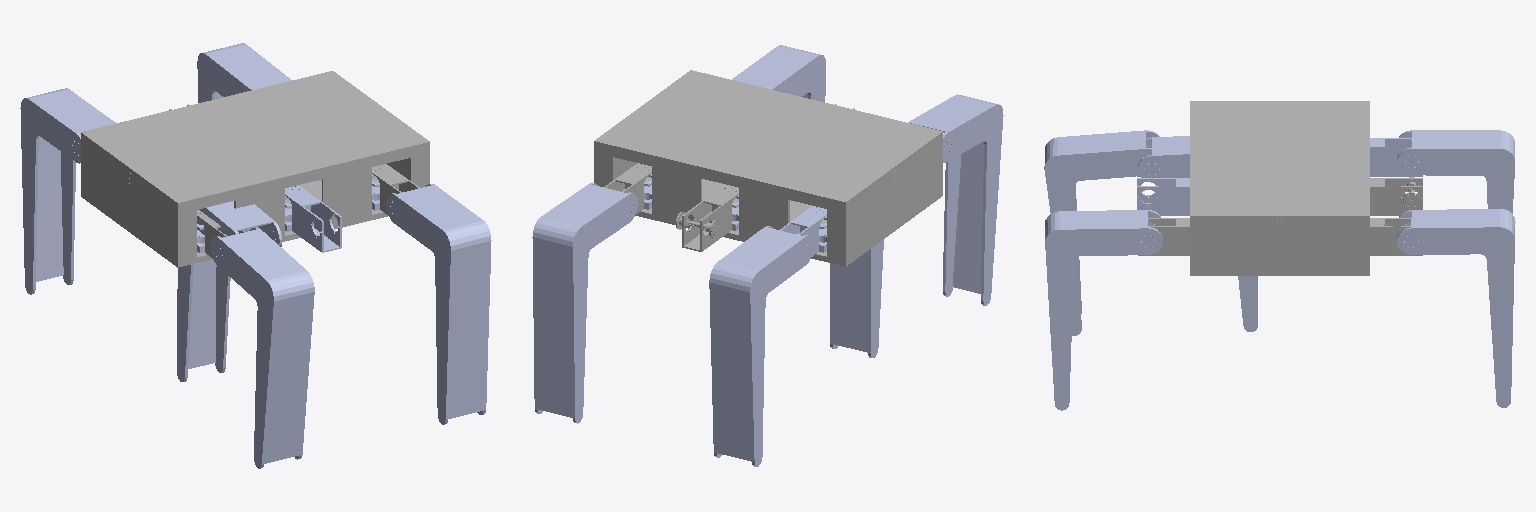
robot.urdf — 6_Legs_fixed:
<?xml version="1.0" encoding="utf-8"?>
<!-- This URDF was automatically created by SolidWorks to URDF Exporter! Originally created by Stephen Brawner ([email redacted]) 
     Commit Version: 1.6.0-4-g7f85cfe  Build Version: 1.6.7995.38578
     For more information, please see http://wiki.ros.org/sw_urdf_exporter -->
<robot
  name="6_Legs_fixed">
  <link
    name="base_link">
    <inertial>
      <origin
        xyz="-2.74585246806155E-16 4.44089209850063E-16 0.128881106851671"
        rpy="0 0 0" />
      <mass
        value="22.033335501173" />
      <inertia
        ixx="0.8417129763989"
        ixy="-1.83539305948728E-15"
        ixz="1.04328143130752E-15"
        iyy="1.85632822551968"
        iyz="-5.16947595841089E-16"
        izz="2.61458422893647" />
    </inertial>
    <visual>
      <origin
        xyz="0 0 0"
        rpy="0 0 0" />
      <geometry>
        <mesh
          filename="package://6_Legs_fixed/meshes/base_link.STL" />
      </geometry>
      <material
        name="">
        <color
          rgba="0.752941176470588 0.752941176470588 0.752941176470588 1" />
      </material>
    </visual>
    <collision>
      <origin
        xyz="0 0 0"
        rpy="0 0 0" />
      <geometry>
        <mesh
          filename="package://6_Legs_fixed/meshes/base_link.STL" />
      </geometry>
    </collision>
  </link>
  <link
    name="Link_1">
    <inertial>
      <origin
        xyz="-2.77555756156289E-16 0.0193856043120518 0.00799128397049295"
        rpy="0 0 0" />
      <mass
        value="0.294565123385619" />
      <inertia
        ixx="0.00105494307880137"
        ixy="-1.38635230288521E-17"
        ixz="8.15583132799492E-18"
        iyy="0.000429285347286343"
        iyz="2.12375671938406E-05"
        izz="0.000930841228803921" />
    </inertial>
    <visual>
      <origin
        xyz="0 0 0"
        rpy="0 0 0" />
      <geometry>
        <mesh
          filename="package://6_Legs_fixed/meshes/Link_1.STL" />
      </geometry>
      <material
        name="">
        <color
          rgba="0.792156862745098 0.819607843137255 0.933333333333333 1" />
      </material>
    </visual>
    <collision>
      <origin
        xyz="0 0 0"
        rpy="0 0 0" />
      <geometry>
        <mesh
          filename="package://6_Legs_fixed/meshes/Link_1.STL" />
      </geometry>
    </collision>
  </link>
  <joint
    name="No_Joint"
    type="fixed">
    <origin
      xyz="0.317499999999999 0.144099999999999 0.0199999999999999"
      rpy="0 0 0" />
    <parent
      link="base_link" />
    <child
      link="Link_1" />
    <axis
      xyz="0 0 0" />
  </joint>
  <link
    name="Link_2_1">
    <inertial>
      <origin
        xyz="0.00440457701081298 0.133234737745357 0.0147340785494887"
        rpy="0 0 0" />
      <mass
        value="0.35463848639693" />
      <inertia
        ixx="0.0022431506995859"
        ixy="-1.43733427396489E-05"
        ixz="4.18803786744805E-06"
        iyy="0.000838300018387207"
        iyz="0.000409382102865286"
        izz="0.00195814822262964" />
    </inertial>
    <visual>
      <origin
        xyz="0 0 0"
        rpy="0 0 0" />
      <geometry>
        <mesh
          filename="package://6_Legs_fixed/meshes/Link_2_1.STL" />
      </geometry>
      <material
        name="">
        <color
          rgba="0.752941176470588 0.752941176470588 0.752941176470588 1" />
      </material>
    </visual>
    <collision>
      <origin
        xyz="0 0 0"
        rpy="0 0 0" />
      <geometry>
        <mesh
          filename="package://6_Legs_fixed/meshes/Link_2_1.STL" />
      </geometry>
    </collision>
  </link>
  <joint
    name="Joint_1"
    type="fixed">
    <origin
      xyz="-0.0030746 0.081274 0.03275"
      rpy="0 0 0" />
    <parent
      link="Link_1" />
    <child
      link="Link_2_1" />
    <axis
      xyz="0 0 0" />
  </joint>
  <link
    name="Link_2">
    <inertial>
      <origin
        xyz="0.161310305567988 -0.239853582294744 -0.00247675891911525"
        rpy="0 0 0" />
      <mass
        value="2.21151363725631" />
      <inertia
        ixx="0.0341297219781968"
        ixy="0.0255123389151366"
        ixz="0.000272334576142029"
        iyy="0.0956933397810624"
        iyz="-0.00018045052821444"
        izz="0.112972719824399" />
    </inertial>
    <visual>
      <origin
        xyz="0 0 0"
        rpy="0 0 0" />
      <geometry>
        <mesh
          filename="package://6_Legs_fixed/meshes/Link_2.STL" />
      </geometry>
      <material
        name="">
        <color
          rgba="0.792156862745098 0.819607843137255 0.933333333333333 1" />
      </material>
    </visual>
    <collision>
      <origin
        xyz="0 0 0"
        rpy="0 0 0" />
      <geometry>
        <mesh
          filename="package://6_Legs_fixed/meshes/Link_2.STL" />
      </geometry>
    </collision>
  </link>
  <joint
    name="Joint_2"
    type="fixed">
    <origin
      xyz="0.0053286 0.22355 0.035553"
      rpy="-1.5708 1.5567 1.5708" />
    <parent
      link="Link_2_1" />
    <child
      link="Link_2" />
    <axis
      xyz="0 0 0" />
  </joint>
  <link
    name="Link_1_2">
    <inertial>
      <origin
        xyz="7.78065189729364E-17 0.0193856043120519 0.00799128397049298"
        rpy="0 0 0" />
      <mass
        value="0.294565123385619" />
      <inertia
        ixx="0.00105494307880137"
        ixy="-3.59682279865432E-18"
        ixz="-1.75639343909086E-18"
        iyy="0.000429285347286344"
        iyz="2.12375671938395E-05"
        izz="0.000930841228803922" />
    </inertial>
    <visual>
      <origin
        xyz="0 0 0"
        rpy="0 0 0" />
      <geometry>
        <mesh
          filename="package://6_Legs_fixed/meshes/Link_1_2.STL" />
      </geometry>
      <material
        name="">
        <color
          rgba="0.792156862745098 0.819607843137255 0.933333333333333 1" />
      </material>
    </visual>
    <collision>
      <origin
        xyz="0 0 0"
        rpy="0 0 0" />
      <geometry>
        <mesh
          filename="package://6_Legs_fixed/meshes/Link_1_2.STL" />
      </geometry>
    </collision>
  </link>
  <joint
    name="Fixed_Joint_2"
    type="fixed">
    <origin
      xyz="0 0.1441 0.02"
      rpy="0 0 0" />
    <parent
      link="base_link" />
    <child
      link="Link_1_2" />
    <axis
      xyz="0 0 0" />
  </joint>
  <link
    name="Link_2_1_2">
    <inertial>
      <origin
        xyz="-0.00119443281923461 0.126109214219085 0.0149275647877688"
        rpy="0 0 0" />
      <mass
        value="0.354638486396931" />
      <inertia
        ixx="0.0022432977410922"
        ixy="8.13929796118913E-11"
        ixz="-2.77070816509354E-11"
        iyy="0.000838152976880902"
        iyz="0.00040940352442008"
        izz="0.00195814822262964" />
    </inertial>
    <visual>
      <origin
        xyz="0 0 0"
        rpy="0 0 0" />
      <geometry>
        <mesh
          filename="package://6_Legs_fixed/meshes/Link_2_1_2.STL" />
      </geometry>
      <material
        name="">
        <color
          rgba="0.752941176470588 0.752941176470588 0.752941176470588 1" />
      </material>
    </visual>
    <collision>
      <origin
        xyz="0 0 0"
        rpy="0 0 0" />
      <geometry>
        <mesh
          filename="package://6_Legs_fixed/meshes/Link_2_1_2.STL" />
      </geometry>
    </collision>
  </link>
  <joint
    name="Joint_1_2"
    type="fixed">
    <origin
      xyz="0.0011944 0.088406 0.032957"
      rpy="0 0 0" />
    <parent
      link="Link_1_2" />
    <child
      link="Link_2_1_2" />
    <axis
      xyz="0 0 0" />
  </joint>
  <link
    name="Link_2_2">
    <inertial>
      <origin
        xyz="0.00232819705566778 -0.00385619268525492 7.45753830105682E-09"
        rpy="0 0 0" />
      <mass
        value="0.0693204915543849" />
      <inertia
        ixx="3.56780731089416E-05"
        ixy="1.43315615772311E-08"
        ixz="-1.40975412123694E-08"
        iyy="3.56629937884206E-05"
        iyz="-8.50756239341584E-09"
        izz="1.49181504825407E-05" />
    </inertial>
    <visual>
      <origin
        xyz="0 0 0"
        rpy="0 0 0" />
      <geometry>
        <mesh
          filename="package://6_Legs_fixed/meshes/Link_2_2.STL" />
      </geometry>
      <material
        name="">
        <color
          rgba="0.752941176470588 0.752941176470588 0.752941176470588 1" />
      </material>
    </visual>
    <collision>
      <origin
        xyz="0 0 0"
        rpy="0 0 0" />
      <geometry>
        <mesh
          filename="package://6_Legs_fixed/meshes/Link_2_2.STL" />
      </geometry>
    </collision>
  </link>
  <joint
    name="Joint_2_2"
    type="fixed">
    <origin
      xyz="-0.0011944 0.2088 0.035747"
      rpy="-1.5707 1.5708 1.5709" />
    <parent
      link="Link_2_1_2" />
    <child
      link="Link_2_2" />
    <axis
      xyz="0 0 0" />
  </joint>
  <link
    name="Link_1_3">
    <inertial>
      <origin
        xyz="-0.00443938069490774 -0.0655027911560029 -0.0251587160295106"
        rpy="0 0 0" />
      <mass
        value="0.294565123385619" />
      <inertia
        ixx="0.00105494307880137"
        ixy="-2.85091557835376E-18"
        ixz="-1.95472178815993E-18"
        iyy="0.000429285347286343"
        iyz="2.12375671938393E-05"
        izz="0.000930841228803921" />
    </inertial>
    <visual>
      <origin
        xyz="0 0 0"
        rpy="0 0 0" />
      <geometry>
        <mesh
          filename="package://6_Legs_fixed/meshes/Link_1_3.STL" />
      </geometry>
      <material
        name="">
        <color
          rgba="0.792156862745098 0.819607843137255 0.933333333333333 1" />
      </material>
    </visual>
    <collision>
      <origin
        xyz="0 0 0"
        rpy="0 0 0" />
      <geometry>
        <mesh
          filename="package://6_Legs_fixed/meshes/Link_1_3.STL" />
      </geometry>
    </collision>
  </link>
  <joint
    name="Fixed_Joint_3"
    type="fixed">
    <origin
      xyz="-0.313060619305092 0.228988395468048 0.0531500000000036"
      rpy="0 0 0" />
    <parent
      link="base_link" />
    <child
      link="Link_1_3" />
    <axis
      xyz="0 0 0" />
  </joint>
  <link
    name="Link_2_1_3">
    <inertial>
      <origin
        xyz="0.129636104863769 0.0147340785494821 -0.00444014039667867"
        rpy="0 0 0" />
      <mass
        value="0.354638486396931" />
      <inertia
        ixx="0.000838152976880922"
        ixy="0.000409403524420104"
        ixz="8.13925089437219E-11"
        iyy="0.00195814822262963"
        iyz="-2.77069450750762E-11"
        izz="0.00224329774109221" />
    </inertial>
    <visual>
      <origin
        xyz="0 0 0"
        rpy="0 0 0" />
      <geometry>
        <mesh
          filename="package://6_Legs_fixed/meshes/Link_2_1_3.STL" />
      </geometry>
      <material
        name="">
        <color
          rgba="0.792156862745098 0.819607843137255 0.933333333333333 1" />
      </material>
    </visual>
    <collision>
      <origin
        xyz="0 0 0"
        rpy="0 0 0" />
      <geometry>
        <mesh
          filename="package://6_Legs_fixed/meshes/Link_2_1_3.STL" />
      </geometry>
    </collision>
  </link>
  <joint
    name="Joint_1_3"
    type="fixed">
    <origin
      xyz="0 0 0"
      rpy="1.5708 0 1.5728" />
    <parent
      link="Link_1_3" />
    <child
      link="Link_2_1_3" />
    <axis
      xyz="0 0 0" />
  </joint>
  <link
    name="Link_2_3">
    <inertial>
      <origin
        xyz="0.162625008862092 -0.24669558344667 4.49640324973188E-15"
        rpy="0 0 0" />
      <mass
        value="2.2115136372563" />
      <inertia
        ixx="0.0338513825334559"
        ixy="0.0251742141271308"
        ixz="1.2732641614774E-16"
        iyy="0.0959697941105454"
        iyz="-2.74845250725075E-17"
        izz="0.112974604939655" />
    </inertial>
    <visual>
      <origin
        xyz="0 0 0"
        rpy="0 0 0" />
      <geometry>
        <mesh
          filename="package://6_Legs_fixed/meshes/Link_2_3.STL" />
      </geometry>
      <material
        name="">
        <color
          rgba="0.792156862745098 0.819607843137255 0.933333333333333 1" />
      </material>
    </visual>
    <collision>
      <origin
        xyz="0 0 0"
        rpy="0 0 0" />
      <geometry>
        <mesh
          filename="package://6_Legs_fixed/meshes/Link_2_3.STL" />
      </geometry>
    </collision>
  </link>
  <joint
    name="Joint_2_3"
    type="fixed">
    <origin
      xyz="0.2123 0.035495 -0.0044401"
      rpy="-3.1416 0 -1.5752" />
    <parent
      link="Link_2_1_3" />
    <child
      link="Link_2_3" />
    <axis
      xyz="0 0 0" />
  </joint>
  <link
    name="Link_1_4">
    <inertial>
      <origin
        xyz="-3.33066907387547E-16 -0.019385604312052 0.00799128397049301"
        rpy="0 0 0" />
      <mass
        value="0.29456512338562" />
      <inertia
        ixx="0.00105494307880138"
        ixy="-1.13716178449994E-17"
        ixz="1.29412240558589E-18"
        iyy="0.000429285347286344"
        iyz="-2.12375671938404E-05"
        izz="0.000930841228803925" />
    </inertial>
    <visual>
      <origin
        xyz="0 0 0"
        rpy="0 0 0" />
      <geometry>
        <mesh
          filename="package://6_Legs_fixed/meshes/Link_1_4.STL" />
      </geometry>
      <material
        name="">
        <color
          rgba="0.792156862745098 0.819607843137255 0.933333333333333 1" />
      </material>
    </visual>
    <collision>
      <origin
        xyz="0 0 0"
        rpy="0 0 0" />
      <geometry>
        <mesh
          filename="package://6_Legs_fixed/meshes/Link_1_4.STL" />
      </geometry>
    </collision>
  </link>
  <joint
    name="Fixed_Joint_4"
    type="fixed">
    <origin
      xyz="0.317500000000001 -0.144099999999999 0.02"
      rpy="0 0 0" />
    <parent
      link="base_link" />
    <child
      link="Link_1_4" />
    <axis
      xyz="0 0 0" />
  </joint>
  <link
    name="Link_2_1_4">
    <inertial>
      <origin
        xyz="0.125562950483786 0.001689160065936 0.014734078549491"
        rpy="0 0 0" />
      <mass
        value="0.35463848639693" />
      <inertia
        ixx="0.000838310778854466"
        ixy="-1.48899199282642E-05"
        ixz="0.00040938053511016"
        iyy="0.00224313993911864"
        iyz="4.33858047185253E-06"
        izz="0.00195814822262963" />
    </inertial>
    <visual>
      <origin
        xyz="0 0 0"
        rpy="0 0 0" />
      <geometry>
        <mesh
          filename="package://6_Legs_fixed/meshes/Link_2_1_4.STL" />
      </geometry>
      <material
        name="">
        <color
          rgba="0.752941176470588 0.752941176470588 0.752941176470588 1" />
      </material>
    </visual>
    <collision>
      <origin
        xyz="0 0 0"
        rpy="0 0 0" />
      <geometry>
        <mesh
          filename="package://6_Legs_fixed/meshes/Link_2_1_4.STL" />
      </geometry>
    </collision>
  </link>
  <joint
    name="Joint_1_4"
    type="continuous">
    <origin
      xyz="-0.00031135 -0.088945 0.03315"
      rpy="0 0 -1.5708" />
    <parent
      link="Link_1_4" />
    <child
      link="Link_2_1_4" />
    <axis
      xyz="0 0 -1" />
  </joint>
  <link
    name="Link_2_4">
    <inertial>
      <origin
        xyz="0.162625008862141 0.238963561713091 -0.00253231568323709"
        rpy="0 0 0" />
      <mass
        value="2.21151363725629" />
      <inertia
        ixx="0.0338513825334561"
        ixy="-0.0251728007382378"
        ixz="0.000266758151926227"
        iyy="0.0959717035036993"
        iyz="0.000180181085593333"
        izz="0.112972695546501" />
    </inertial>
    <visual>
      <origin
        xyz="0 0 0"
        rpy="0 0 0" />
      <geometry>
        <mesh
          filename="package://6_Legs_fixed/meshes/Link_2_4.STL" />
      </geometry>
      <material
        name="">
        <color
          rgba="0.792156862745098 0.819607843137255 0.933333333333333 1" />
      </material>
    </visual>
    <collision>
      <origin
        xyz="0 0 0"
        rpy="0 0 0" />
      <geometry>
        <mesh
          filename="package://6_Legs_fixed/meshes/Link_2_4.STL" />
      </geometry>
    </collision>
  </link>
  <joint
    name="Joint_2_4"
    type="fixed">
    <origin
      xyz="0.21595 0.0026471 0.035432"
      rpy="-1.5602 1.5587 -3.131" />
    <parent
      link="Link_2_1_4" />
    <child
      link="Link_2_4" />
    <axis
      xyz="0 0 0" />
  </joint>
  <link
    name="Link_1_5">
    <inertial>
      <origin
        xyz="-3.93318232140555E-17 -0.0193856043120521 0.00799128397049298"
        rpy="0 0 0" />
      <mass
        value="0.294565123385619" />
      <inertia
        ixx="0.00105494307880137"
        ixy="-8.56216411872192E-19"
        ixz="2.04207351117204E-18"
        iyy="0.000429285347286344"
        iyz="-2.12375671938402E-05"
        izz="0.000930841228803922" />
    </inertial>
    <visual>
      <origin
        xyz="0 0 0"
        rpy="0 0 0" />
      <geometry>
        <mesh
          filename="package://6_Legs_fixed/meshes/Link_1_5.STL" />
      </geometry>
      <material
        name="">
        <color
          rgba="0.792156862745098 0.819607843137255 0.933333333333333 1" />
      </material>
    </visual>
    <collision>
      <origin
        xyz="0 0 0"
        rpy="0 0 0" />
      <geometry>
        <mesh
          filename="package://6_Legs_fixed/meshes/Link_1_5.STL" />
      </geometry>
    </collision>
  </link>
  <joint
    name="Fixed_Joint_5"
    type="fixed">
    <origin
      xyz="0 -0.144099999999999 0.02"
      rpy="0 0 0" />
    <parent
      link="base_link" />
    <child
      link="Link_1_5" />
    <axis
      xyz="0 0 0" />
  </joint>
  <link
    name="Link_2_1_5">
    <inertial>
      <origin
        xyz="0.126045120861653 0.0147340785494941 0.00202323068990402"
        rpy="0 0 0" />
      <mass
        value="0.354638486396932" />
      <inertia
        ixx="0.000838152976880909"
        ixy="0.000409403524420088"
        ixz="8.13925102230601E-11"
        iyy="0.00195814822262964"
        iyz="-2.77069452828193E-11"
        izz="0.00224329774109221" />
    </inertial>
    <visual>
      <origin
        xyz="0 0 0"
        rpy="0 0 0" />
      <geometry>
        <mesh
          filename="package://6_Legs_fixed/meshes/Link_2_1_5.STL" />
      </geometry>
      <material
        name="">
        <color
          rgba="0.792156862745098 0.819607843137255 0.933333333333333 1" />
      </material>
    </visual>
    <collision>
      <origin
        xyz="0 0 0"
        rpy="0 0 0" />
      <geometry>
        <mesh
          filename="package://6_Legs_fixed/meshes/Link_2_1_5.STL" />
      </geometry>
    </collision>
  </link>
  <joint
    name="Joint_1_5"
    type="continuous">
    <origin
      xyz="0.0020232 -0.088471 0.03315"
      rpy="1.5708 0 -1.5708" />
    <parent
      link="Link_1_5" />
    <child
      link="Link_2_1_5" />
    <axis
      xyz="0 -1 0" />
  </joint>
  <link
    name="Link_2_5">
    <inertial>
      <origin
        xyz="0.153070378325338 0.252338289947187 -0.318404551408"
        rpy="0 0 0" />
      <mass
        value="2.21151363725631" />
      <inertia
        ixx="0.0350279836952742"
        ixy="-0.0265601829836423"
        ixz="4.41590441039777E-05"
        iyy="0.0947932537385775"
        iyz="3.31202719611275E-05"
        izz="0.112974544149805" />
    </inertial>
    <visual>
      <origin
        xyz="0 0 0"
        rpy="0 0 0" />
      <geometry>
        <mesh
          filename="package://6_Legs_fixed/meshes/Link_2_5.STL" />
      </geometry>
      <material
        name="">
        <color
          rgba="0.792156862745098 0.819607843137255 0.933333333333333 1" />
      </material>
    </visual>
    <collision>
      <origin
        xyz="0 0 0"
        rpy="0 0 0" />
      <geometry>
        <mesh
          filename="package://6_Legs_fixed/meshes/Link_2_5.STL" />
      </geometry>
    </collision>
  </link>
  <joint
    name="Joint_2_5"
    type="fixed">
    <origin
      xyz="0.20841 0.031615 0.31994"
      rpy="0.0019793 0.00010792 -1.6253" />
    <parent
      link="Link_2_1_5" />
    <child
      link="Link_2_5" />
    <axis
      xyz="0 0 0" />
  </joint>
  <link
    name="Link_1_6">
    <inertial>
      <origin
        xyz="-5.55111512312578E-17 -0.0193856043120519 0.00799128397049298"
        rpy="0 0 0" />
      <mass
        value="0.294565123385619" />
      <inertia
        ixx="0.00105494307880137"
        ixy="-1.42008686409587E-18"
        ixz="2.24120531308849E-18"
        iyy="0.000429285347286344"
        iyz="-2.12375671938401E-05"
        izz="0.000930841228803922" />
    </inertial>
    <visual>
      <origin
        xyz="0 0 0"
        rpy="0 0 0" />
      <geometry>
        <mesh
          filename="package://6_Legs_fixed/meshes/Link_1_6.STL" />
      </geometry>
      <material
        name="">
        <color
          rgba="0.792156862745098 0.819607843137255 0.933333333333333 1" />
      </material>
    </visual>
    <collision>
      <origin
        xyz="0 0 0"
        rpy="0 0 0" />
      <geometry>
        <mesh
          filename="package://6_Legs_fixed/meshes/Link_1_6.STL" />
      </geometry>
    </collision>
  </link>
  <joint
    name="Fixed_Joint_6"
    type="fixed">
    <origin
      xyz="-0.317499999999991 -0.144100000000011 0.02"
      rpy="0 0 0" />
    <parent
      link="base_link" />
    <child
      link="Link_1_6" />
    <axis
      xyz="0 0 0" />
  </joint>
  <link
    name="Link_2_1_6">
    <inertial>
      <origin
        xyz="0.130403839661595 -0.00469710591727718 0.0147340785494955"
        rpy="0 0 0" />
      <mass
        value="0.354638486396932" />
      <inertia
        ixx="0.00083815849782033"
        ixy="2.78526275964138E-06"
        ixz="0.000409402720135687"
        iyy="0.0022432922201528"
        iyz="-8.11512841643623E-07"
        izz="0.00195814822262964" />
    </inertial>
    <visual>
      <origin
        xyz="0 0 0"
        rpy="0 0 0" />
      <geometry>
        <mesh
          filename="package://6_Legs_fixed/meshes/Link_2_1_6.STL" />
      </geometry>
      <material
        name="">
        <color
          rgba="0.752941176470588 0.752941176470588 0.752941176470588 1" />
      </material>
    </visual>
    <collision>
      <origin
        xyz="0 0 0"
        rpy="0 0 0" />
      <geometry>
        <mesh
          filename="package://6_Legs_fixed/meshes/Link_2_1_6.STL" />
      </geometry>
    </collision>
  </link>
  <joint
    name="Joint_1_6"
    type="continuous">
    <origin
      xyz="0.0044394 -0.084112 0.03315"
      rpy="0 0 -1.5708" />
    <parent
      link="Link_1_6" />
    <child
      link="Link_2_1_6" />
    <axis
      xyz="0 0 -1" />
  </joint>
  <link
    name="Link_2_6">
    <inertial>
      <origin
        xyz="0.160396839658805 -0.252836281178716 -0.0639999999999995"
        rpy="0 0 0" />
      <mass
        value="2.21151363725629" />
      <inertia
        ixx="0.033851382533456"
        ixy="0.0251742141271309"
        ixz="-1.77991268371282E-16"
        iyy="0.0959697941105456"
        iyz="4.72983197746801E-17"
        izz="0.112974604939655" />
    </inertial>
    <visual>
      <origin
        xyz="0 0 0"
        rpy="0 0 0" />
      <geometry>
        <mesh
          filename="package://6_Legs_fixed/meshes/Link_2_6.STL" />
      </geometry>
      <material
        name="">
        <color
          rgba="0.792156862745098 0.819607843137255 0.933333333333333 1" />
      </material>
    </visual>
    <collision>
      <origin
        xyz="0 0 0"
        rpy="0 0 0" />
      <geometry>
        <mesh
          filename="package://6_Legs_fixed/meshes/Link_2_6.STL" />
      </geometry>
    </collision>
  </link>
  <joint
    name="Joint_2_6"
    type="fixed">
    <origin
      xyz="0.20954 0.059146 0.033542"
      rpy="1.5708 1.5163 3.1396" />
    <parent
      link="Link_2_1_6" />
    <child
      link="Link_2_6" />
    <axis
      xyz="0 0 0" />
  </joint>
</robot>

--- Render facts (derived) ---
Views: 3 orthographic renders of the robot side by side, from view 1: azimuth 30°, elevation 25°; view 2: azimuth 150°, elevation 25°; view 3: azimuth 270°, elevation 25°.
Model 6_Legs_fixed with 19 links and 18 joints (3 continuous, 15 fixed), rooted at base_link, posed all joints at 0.
Links seen in each view (by area): view 1: base_link, Link_2_4, Link_2_5, Link_2_3, Link_2_6, Link_2, Link_2_1_5, Link_2_1_4; view 2: base_link, Link_2, Link_2_3, Link_2_5, Link_2_6, Link_2_4, Link_2_1_2, Link_2_1, Link_2_1_3; view 3: base_link, Link_2_4, Link_2, Link_2_3, Link_2_5, Link_2_6, Link_2_1_5, Link_2_1_2, Link_2_1_3, Link_2_1, Link_2_1_4.
Boxes of the visible links, x1,y1,x2,y2 form: base_link: [81, 71, 429, 267]; Link_2_4: [386, 184, 491, 424]; Link_2_5: [211, 227, 314, 468]; Link_2_3: [20, 88, 115, 294]; Link_2_6: [177, 201, 281, 381]; Link_2: [197, 43, 291, 102]; Link_2_1_5: [285, 185, 341, 252]; Link_2_1_4: [372, 164, 419, 215]; base_link: [594, 70, 942, 266]; Link_2: [532, 183, 637, 423]; Link_2_3: [709, 226, 813, 466]; Link_2_5: [908, 94, 1003, 305]; Link_2_6: [830, 240, 883, 357]; Link_2_4: [732, 45, 825, 102]; Link_2_1_2: [682, 184, 738, 251]; Link_2_1: [604, 163, 651, 214]; Link_2_1_3: [780, 206, 826, 256]; base_link: [1190, 101, 1369, 275]; Link_2_4: [1045, 210, 1162, 410]; Link_2: [1397, 209, 1515, 407]; Link_2_3: [1397, 130, 1514, 213]; Link_2_5: [1044, 130, 1159, 335]; Link_2_6: [1138, 136, 1257, 331]; Link_2_1_5: [1137, 178, 1189, 215]; Link_2_1_2: [1370, 178, 1422, 215]; Link_2_1_3: [1370, 138, 1422, 176]; Link_2_1: [1370, 218, 1422, 255]; Link_2_1_4: [1138, 218, 1189, 255].
Bounding box of the posed robot: 0.9144 × 1.59 × 0.7761 m (x, y, z).
19 mesh visuals loaded from 19 distinct referenced files (19 binary STL).
